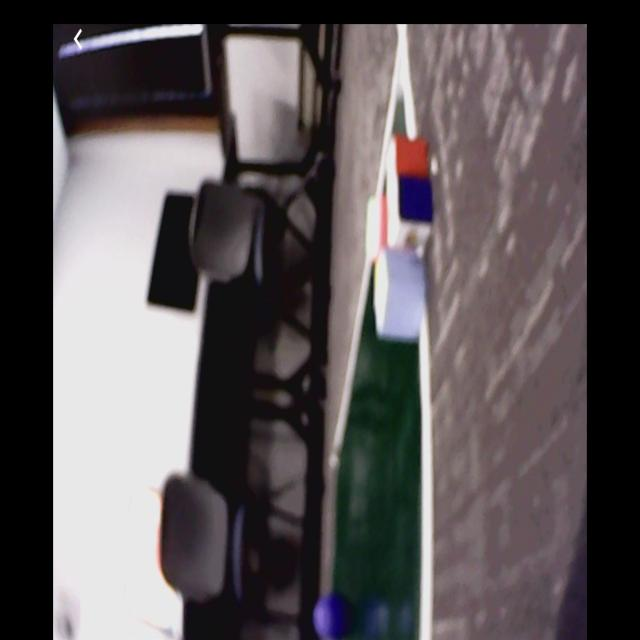ball: (312, 593, 352, 640)
